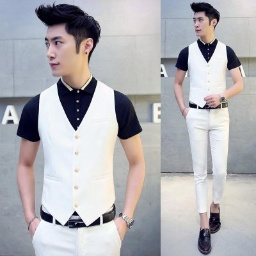face: (32, 3, 104, 80), (186, 1, 222, 38)
